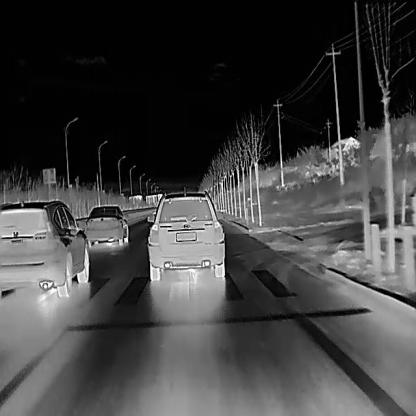car: (0, 198, 89, 299), (145, 189, 225, 281), (83, 203, 128, 246)
